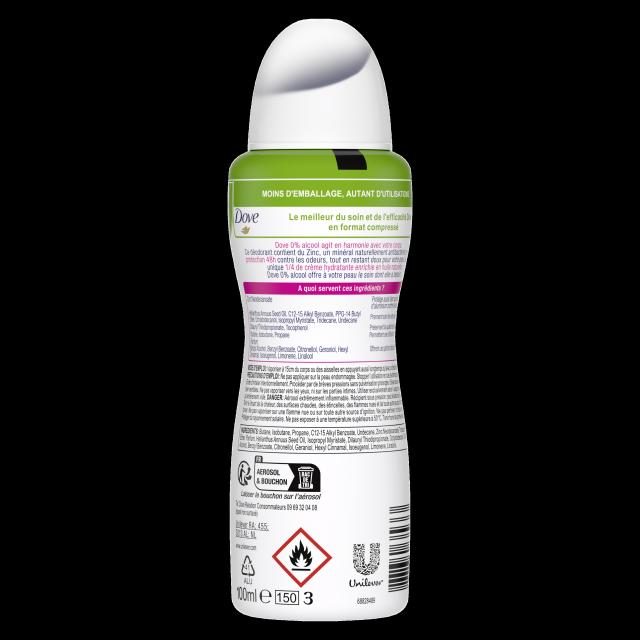GHS_Symbol_FLAME: (272, 527, 332, 588)
